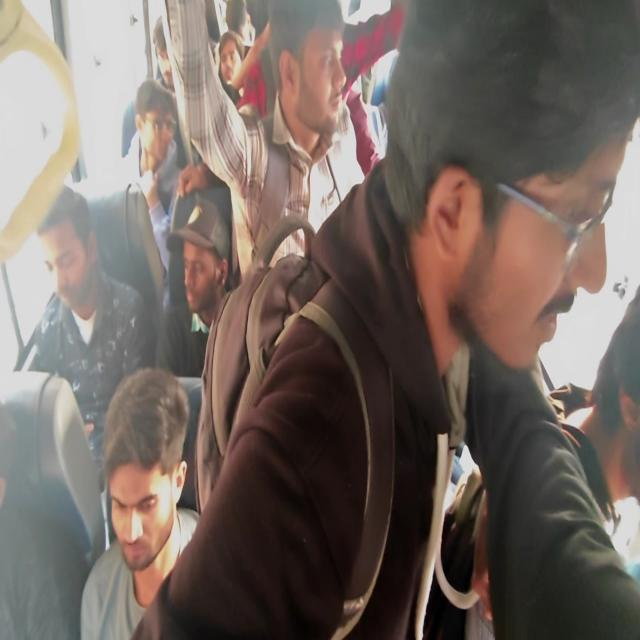person: (384, 0, 640, 383), (91, 381, 282, 640), (278, 1, 378, 180), (37, 167, 132, 326), (0, 414, 69, 588), (164, 227, 247, 356), (123, 76, 197, 185), (152, 16, 188, 92), (216, 32, 250, 99)
